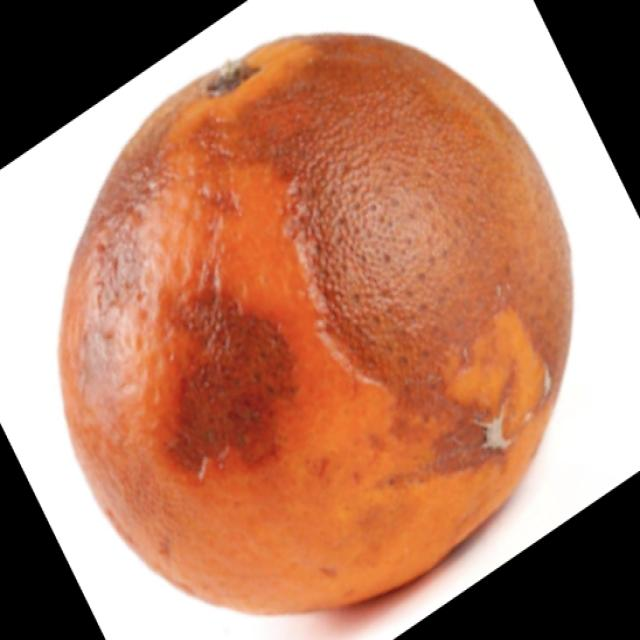sedikit_busuk: (55, 25, 576, 619)
